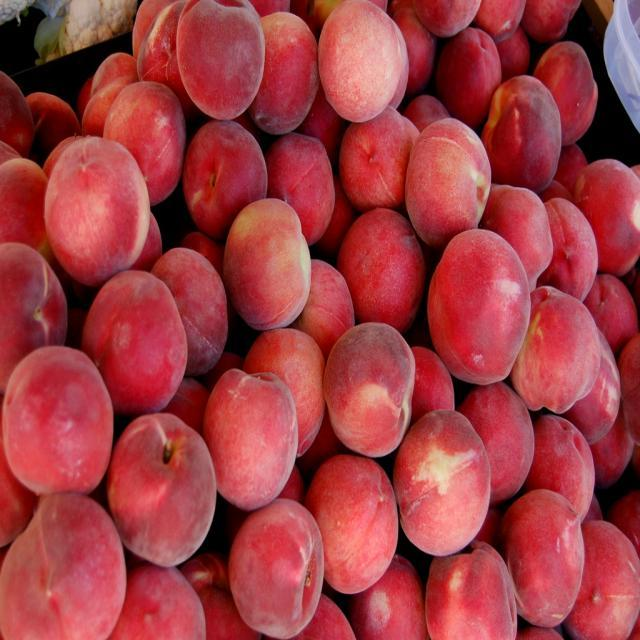Peach: (0, 0, 639, 639), (219, 199, 311, 335)
